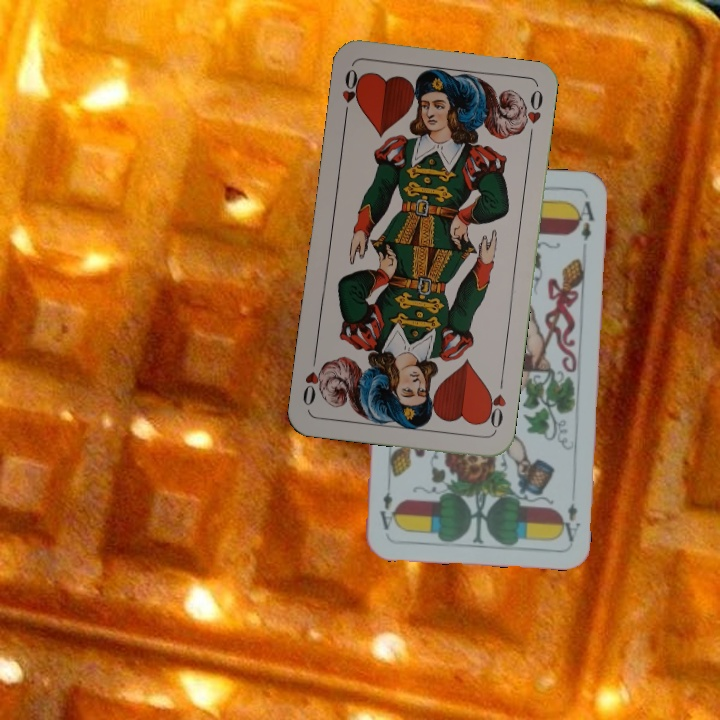EA: (556, 500, 583, 544)
HO: (481, 374, 509, 433), (338, 64, 363, 122)
